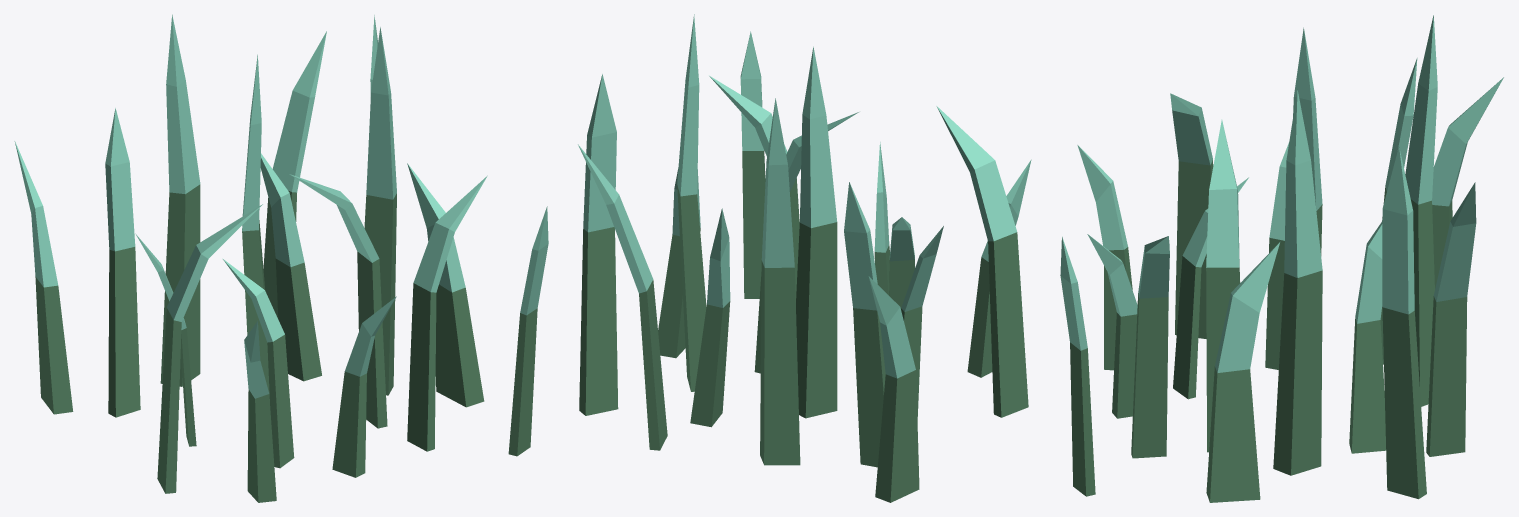
Rendered from grass-1.fbx.
The picture shows the model from 3 angles, left to right: view 1: azimuth 30°, elevation 25°; view 2: azimuth 150°, elevation 25°; view 3: azimuth 270°, elevation 25°; orthographic projection. The views are drawn at different scales.
Visible parts, largest first — view 1: grass-1; view 2: grass-1; view 3: grass-1.
Part boxes in pixels (<box>): grass-1: <box>14,14,548,502</box>; grass-1: <box>578,14,1031,502</box>; grass-1: <box>1060,15,1503,502</box>.
Size of the model in its own units: 0.1813 by 0.184 by 0.1938.
